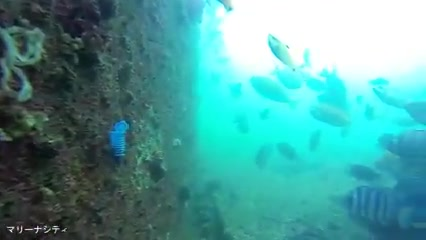azi: (265, 32, 298, 73)
ishidai: (338, 177, 408, 230)
